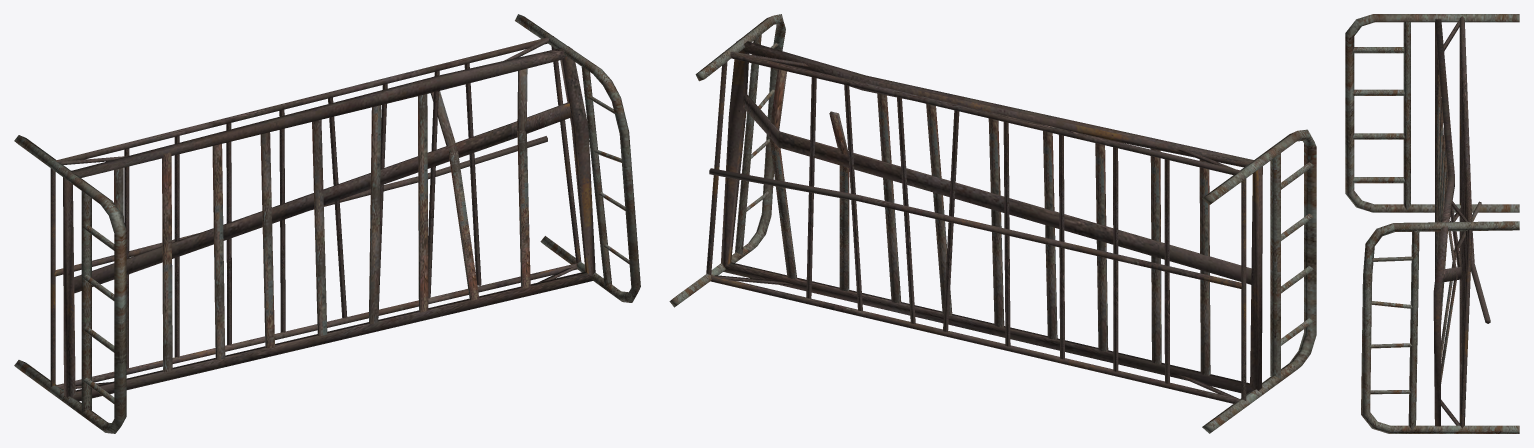
The model's file is bed_broken.dae.
3 views of the same model, side by side, from view 1: azimuth 30°, elevation 25°; view 2: azimuth 150°, elevation 25°; view 3: azimuth 270°, elevation 25° (orthographic). The views are drawn at different scales.
Parts seen in each view (by area): view 1: bed_broken; view 2: bed_broken; view 3: bed_broken.
Boxes of the visible parts, bbox=[...] form: bed_broken: bbox=[14, 14, 640, 433]; bed_broken: bbox=[669, 14, 1316, 433]; bed_broken: bbox=[1345, 14, 1519, 433].
Bounding box in the file's own units: 8.91 × 2.97 × 3.8.
